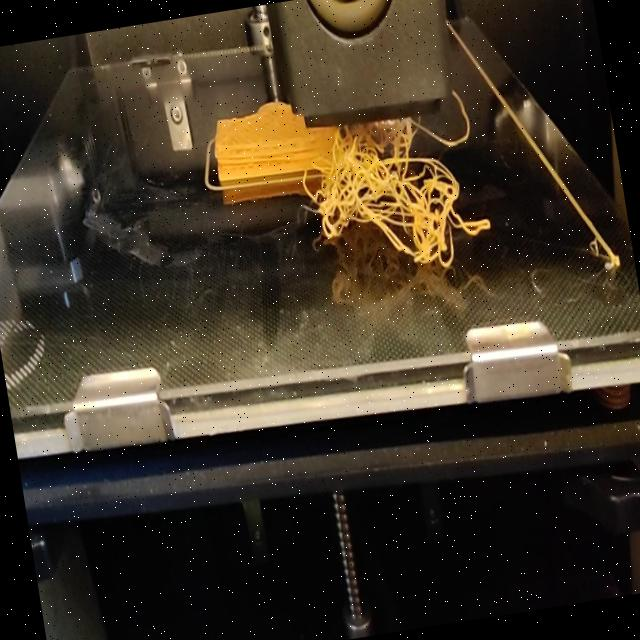spaghetti: (297, 104, 495, 286)
